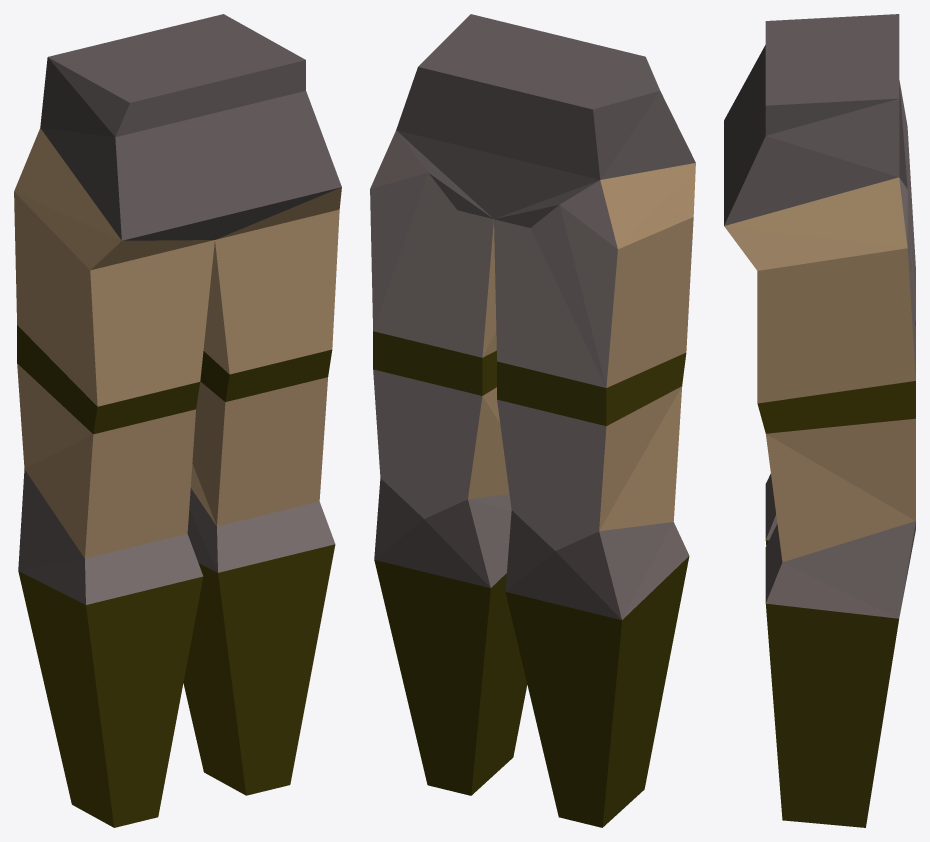
The model's file is npc_world_khazard_trooper_2_5.obj.
3 renders of one model, left to right at view 1: azimuth 30°, elevation 25°; view 2: azimuth 150°, elevation 25°; view 3: azimuth 270°, elevation 25°, orthographic.
Bounding box in the file's own units: 0.2656 × 0.75 × 0.1797.
